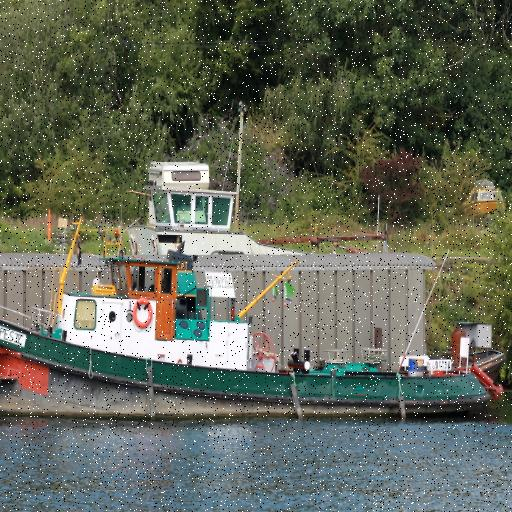tugboat: (1, 216, 509, 434)
